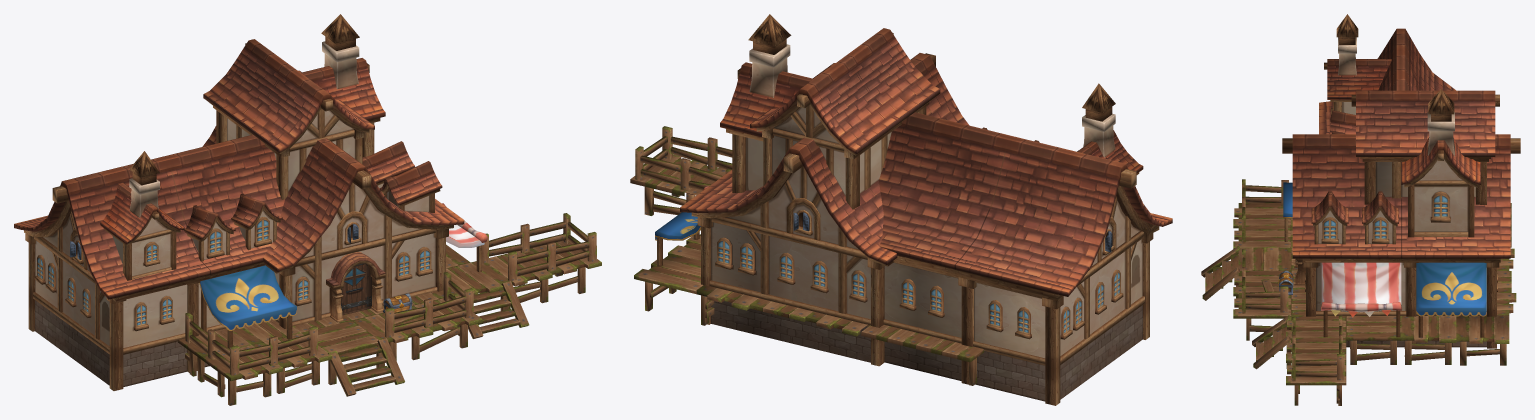
Rendered from house_001.fbx.
3 views of the same model, side by side, from view 1: azimuth 30°, elevation 25°; view 2: azimuth 150°, elevation 25°; view 3: azimuth 270°, elevation 25° (orthographic). The views are drawn at different scales.
Parts seen in each view (by area): view 1: Lobby_house_wall_001; view 2: Lobby_house_wall_001; view 3: Lobby_house_wall_001.
Part boxes in pixels (bbox=[...]): Lobby_house_wall_001: bbox=[14, 14, 601, 405]; Lobby_house_wall_001: bbox=[630, 14, 1172, 405]; Lobby_house_wall_001: bbox=[1201, 14, 1520, 405].
Size of the model in its own units: 31.86 by 16.64 by 19.63.
1 material, 1 textured.
